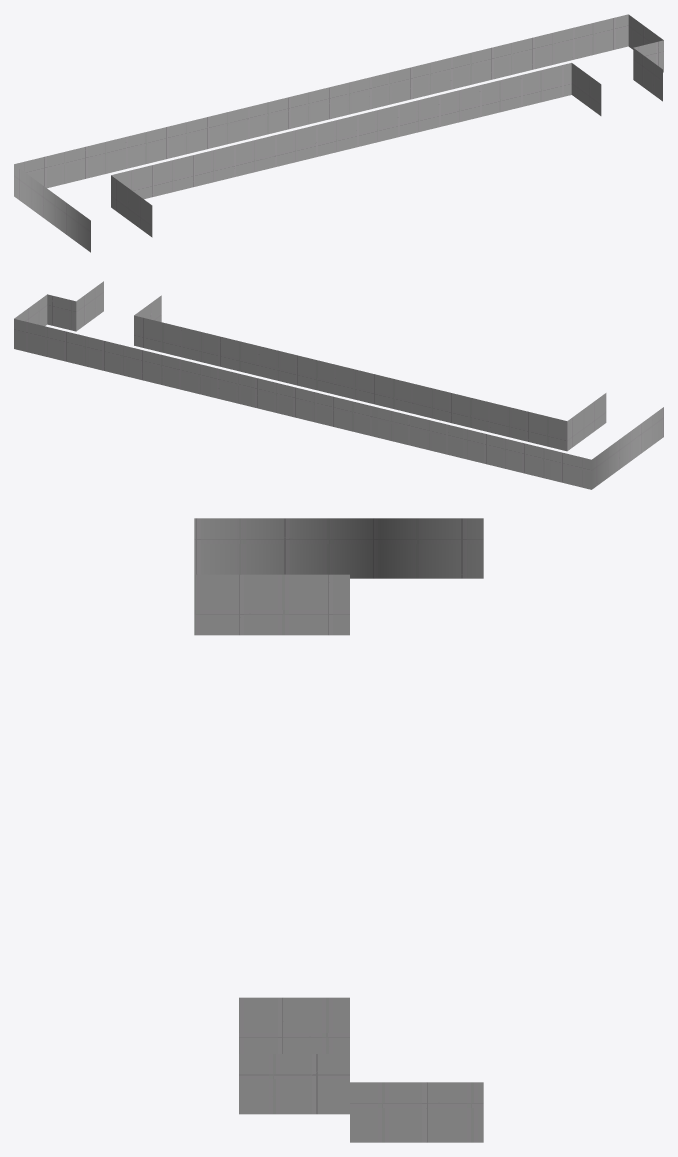
Rendered from Block19.fbx.
The picture shows the model from 3 angles, top to bottom: view 1: azimuth 30°, elevation 25°; view 2: azimuth 150°, elevation 25°; view 3: azimuth 270°, elevation 25°; orthographic projection. The views are drawn at different scales.
Parts seen in each view (by area): view 1: Lab_Wall_ERROR; view 2: Lab_Wall_ERROR; view 3: Lab_Wall_ERROR.
Boxes of the visible parts, x1,y1,x2,y2 form: Lab_Wall_ERROR: (14, 14, 663, 252); Lab_Wall_ERROR: (14, 281, 663, 489); Lab_Wall_ERROR: (194, 518, 483, 1142).
Bounding box in the file's own units: 60 × 3 × 13.
Materials: 1 (1 with a texture image).
